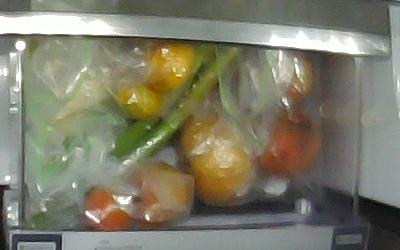peach_vinyl: (127, 158, 188, 225)
pear_vinyl: (178, 114, 258, 204)
tangerine_vinyl: (143, 41, 195, 92), (111, 78, 162, 120)
tomato_vinyl: (251, 107, 320, 178), (80, 184, 132, 233)
